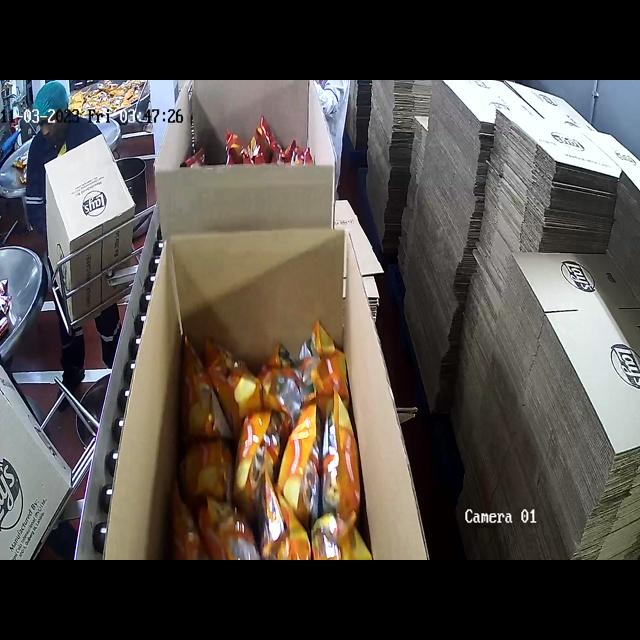cheese: (164, 334, 366, 560)
masala: (201, 146, 319, 167)
